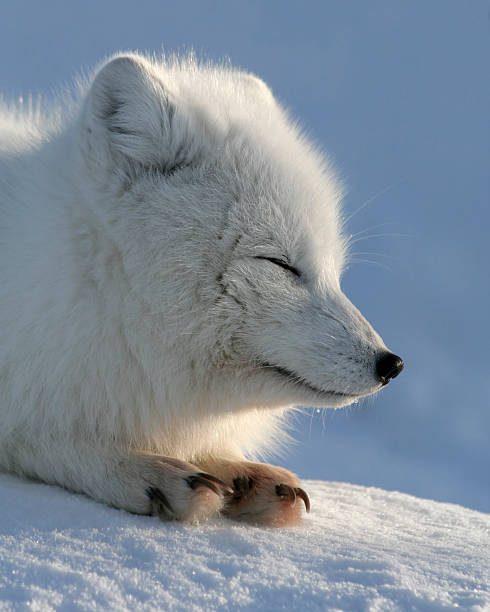arcticfox: (128, 117, 399, 430)
